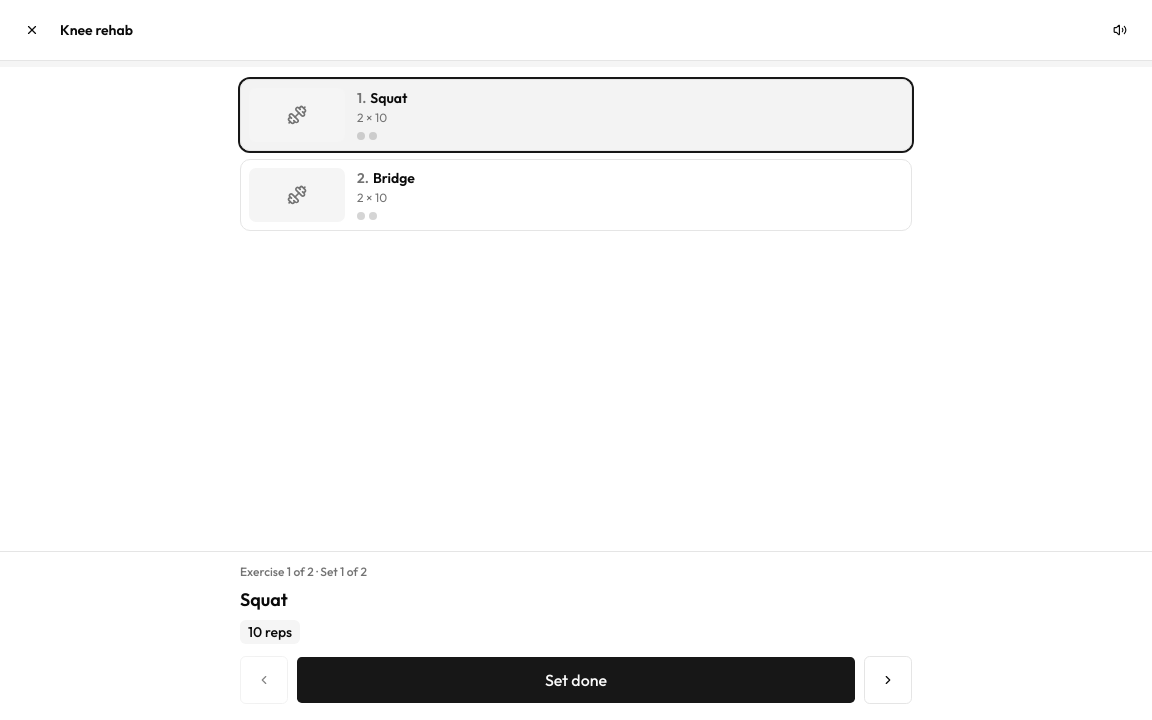
Test: WorkoutPlayer › moves between steps with previous and next
The width and height of the screenshot is (1152, 720).
Click the button named "Next" at (888, 680), box [864,656,912,704]
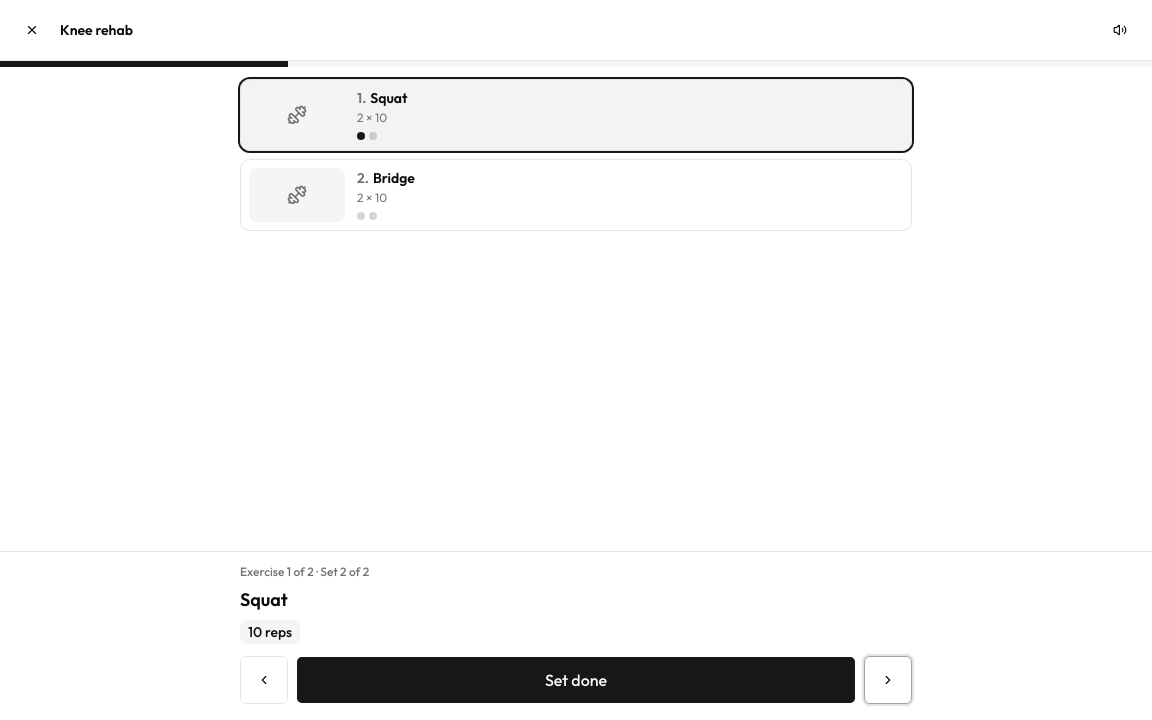
Click the button named "Next" at (888, 680), box [864,656,912,704]
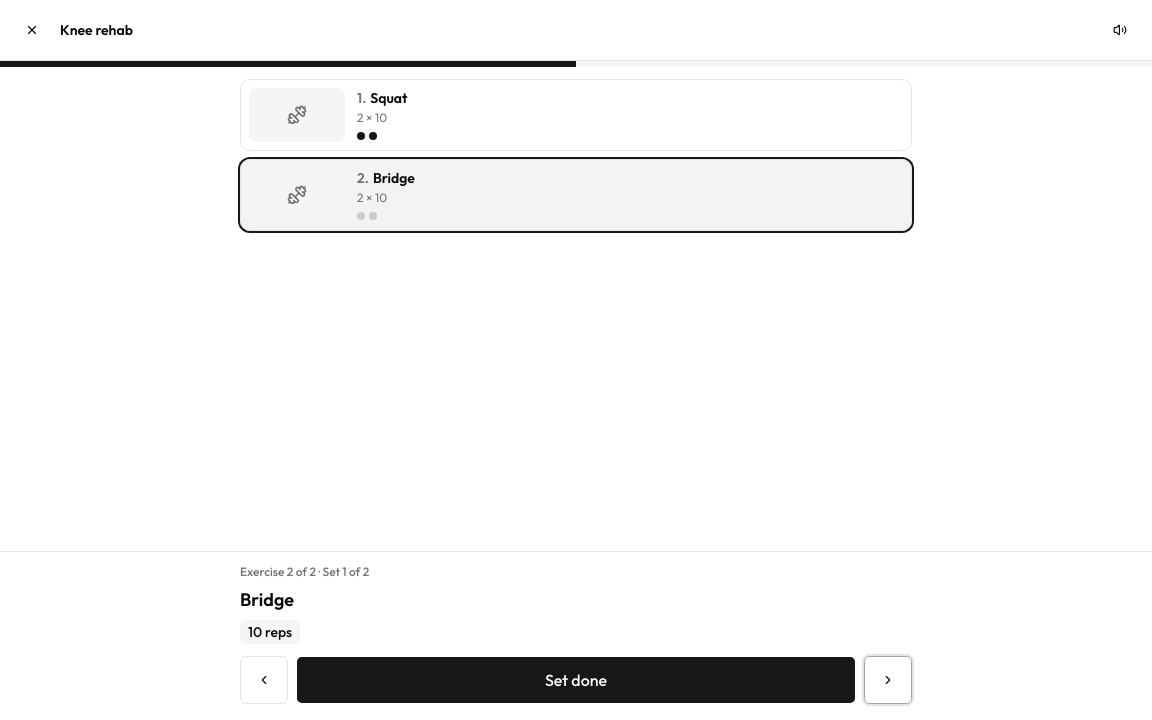
Expected: the list item "2.Bridge 2 × 10" is shown, [240,159,912,231]
Now the text "Bridge" is shown, box [240,586,294,614]
Now the text "Exercise 2 of 2" is shown, box [240,564,316,580]
Click the button named "Previous" at (264, 680), box [240,656,288,704]
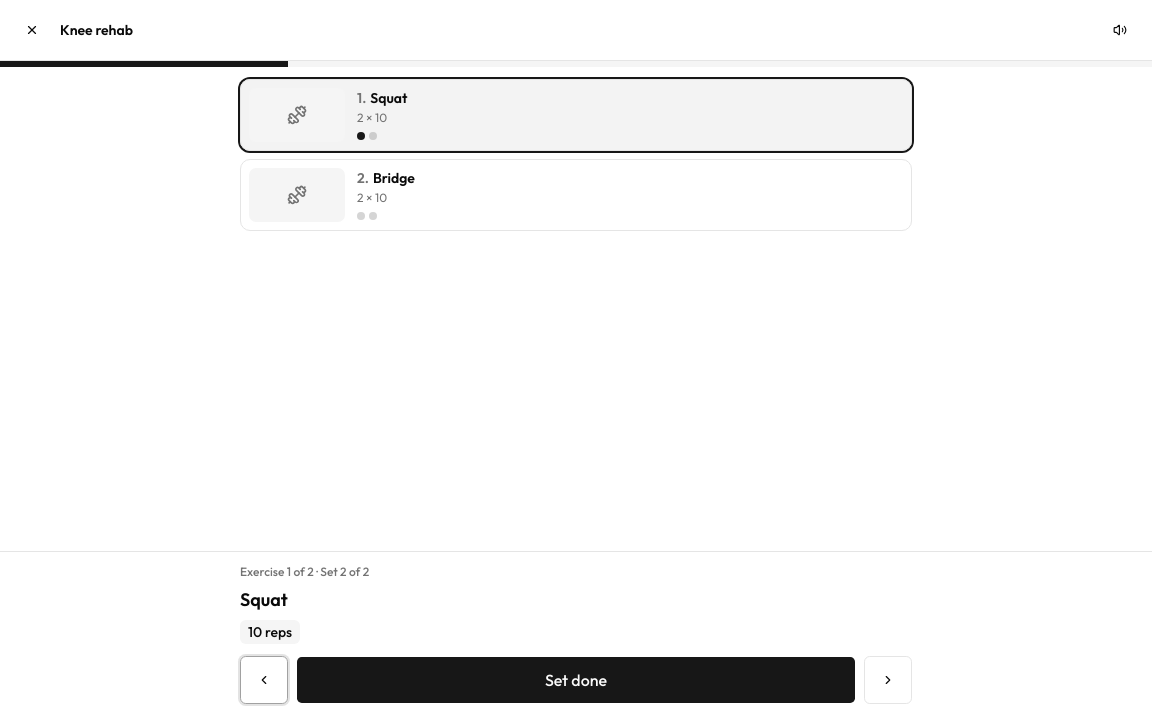
Expected: the list item "1.Squat 2 × 10" is shown, [240,79,912,151]
Now the text "Squat" is shown, box [240,586,288,614]
Now the text "Set 2 of 2" is shown, box [320,564,369,580]
